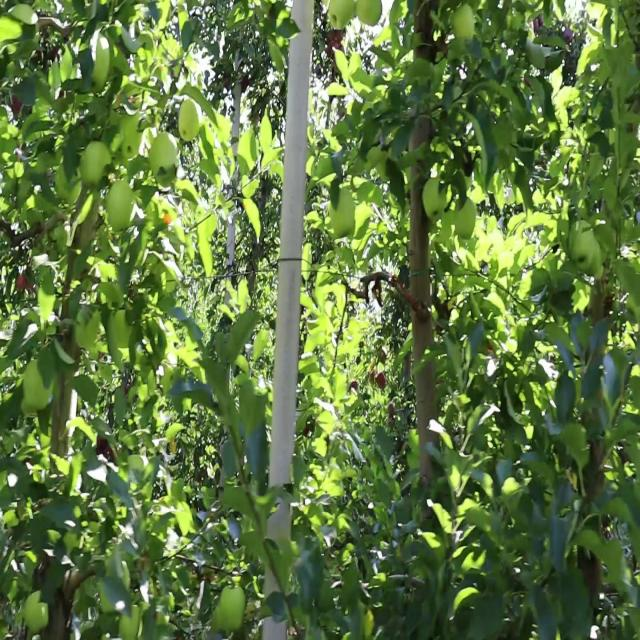apple: (105, 178, 137, 232), (22, 358, 54, 410), (150, 132, 178, 188), (568, 216, 596, 270), (329, 188, 356, 240), (218, 583, 246, 633), (87, 35, 111, 92), (82, 140, 110, 188), (22, 590, 50, 634), (56, 160, 82, 204), (421, 176, 446, 220), (75, 304, 98, 349), (178, 100, 203, 141), (120, 114, 142, 160), (454, 198, 477, 239), (452, 4, 476, 43), (354, 0, 384, 28), (110, 311, 132, 348), (119, 602, 140, 640), (328, 0, 354, 29)
